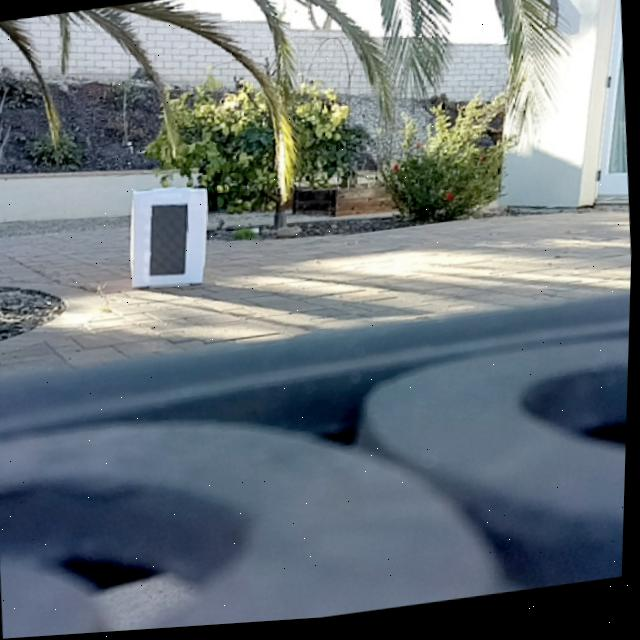led: (146, 201, 193, 280)
